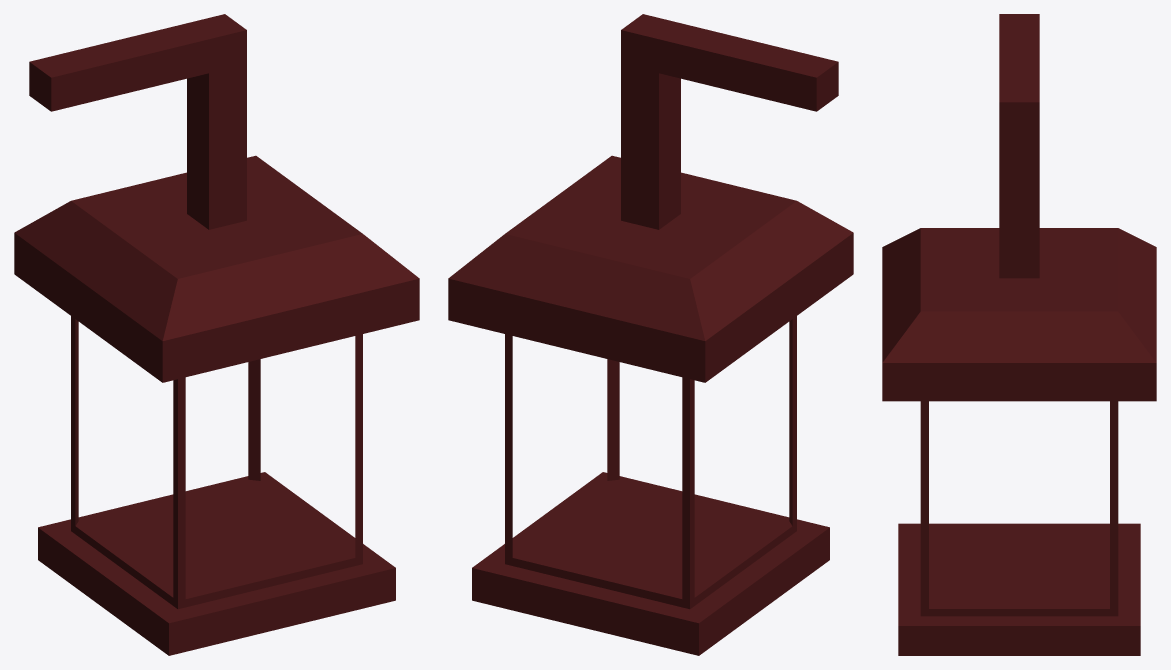
Rendered from Lantern.fbx.
The picture shows the model from 3 angles, left to right: view 1: azimuth 30°, elevation 25°; view 2: azimuth 150°, elevation 25°; view 3: azimuth 270°, elevation 25°; orthographic projection. The views are drawn at different scales.
Parts seen in each view (by area): view 1: Lantern; view 2: Lantern; view 3: Lantern.
Boxes of the visible parts, box(x1,y1,x2,y2) form: Lantern: box(14, 14, 419, 655); Lantern: box(448, 14, 853, 655); Lantern: box(882, 14, 1156, 655).
Size of the model in its own units: 330 by 571 by 278.
